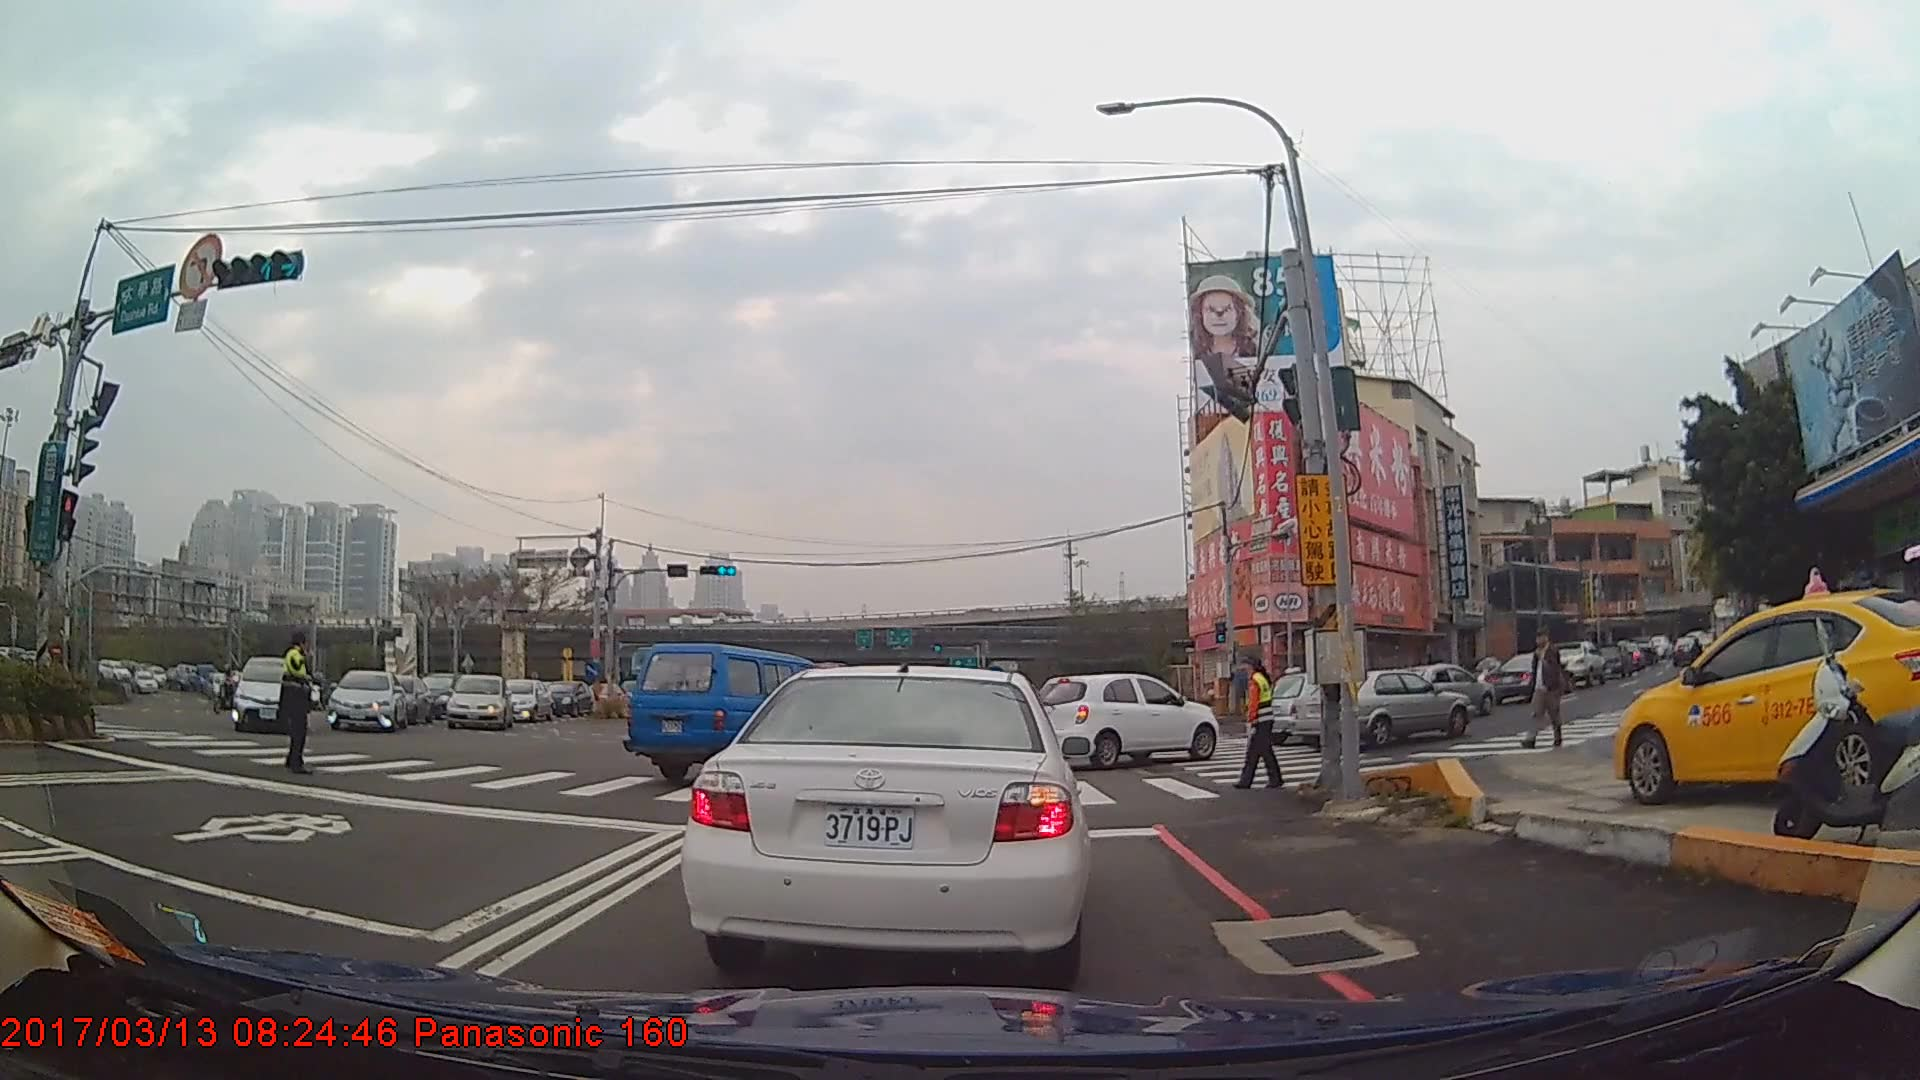pedestrian: (274, 633, 327, 771), (1238, 656, 1284, 790), (1521, 628, 1570, 750)
rider: (211, 664, 247, 716)
vehicle: (678, 658, 1091, 981), (1610, 586, 1917, 805), (624, 640, 850, 783), (1026, 672, 1215, 769), (1296, 668, 1472, 751), (230, 653, 299, 733), (1398, 662, 1494, 718), (329, 667, 405, 730), (1490, 652, 1575, 705), (443, 672, 514, 731), (498, 676, 554, 722), (1553, 639, 1607, 686), (542, 677, 596, 719), (1591, 640, 1635, 679), (1671, 634, 1702, 664)
